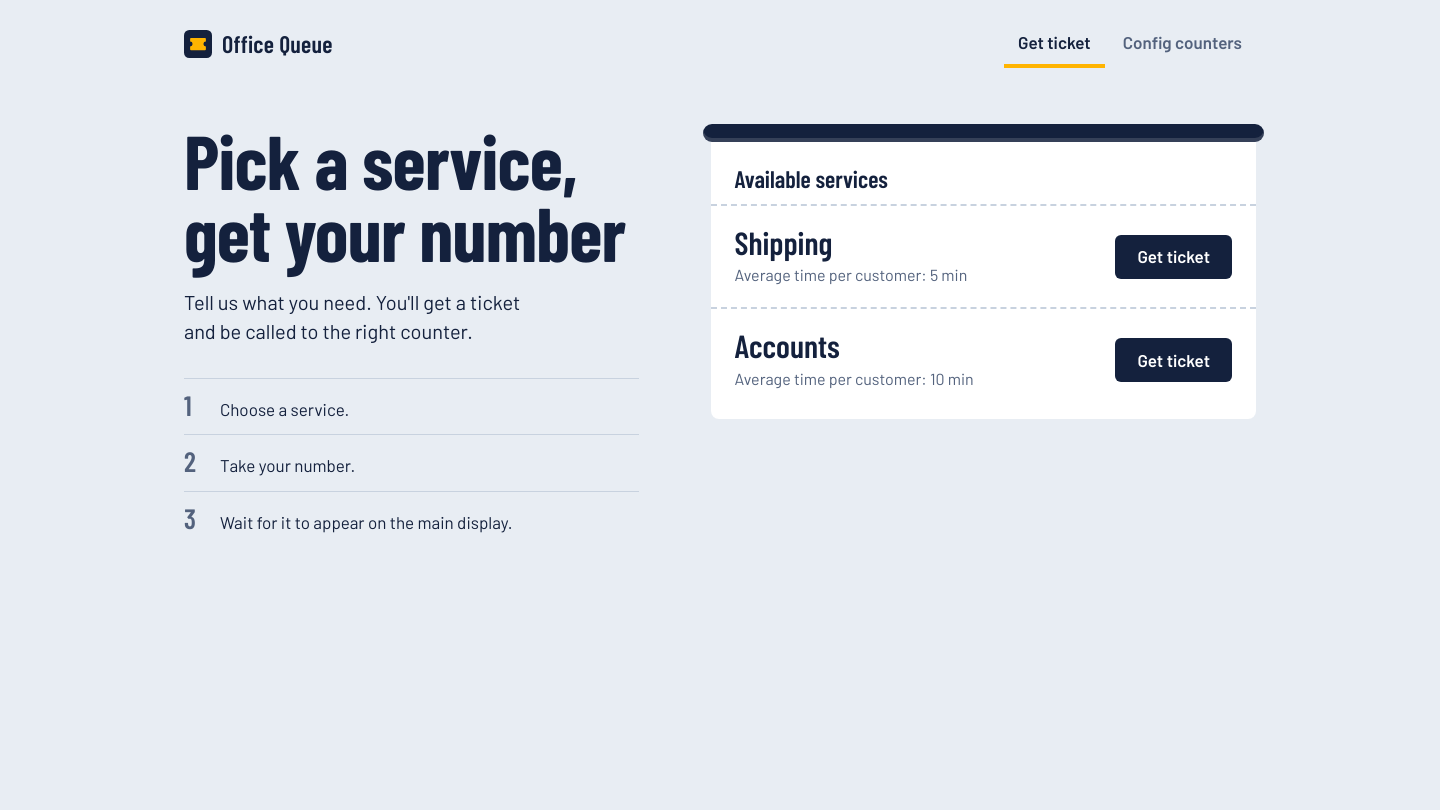
it: landing page › does not issue a ticket when the customer cancels
Click the button "Get ticket" in the row of "Accounts" at (1174, 360), box [1115, 338, 1232, 382]
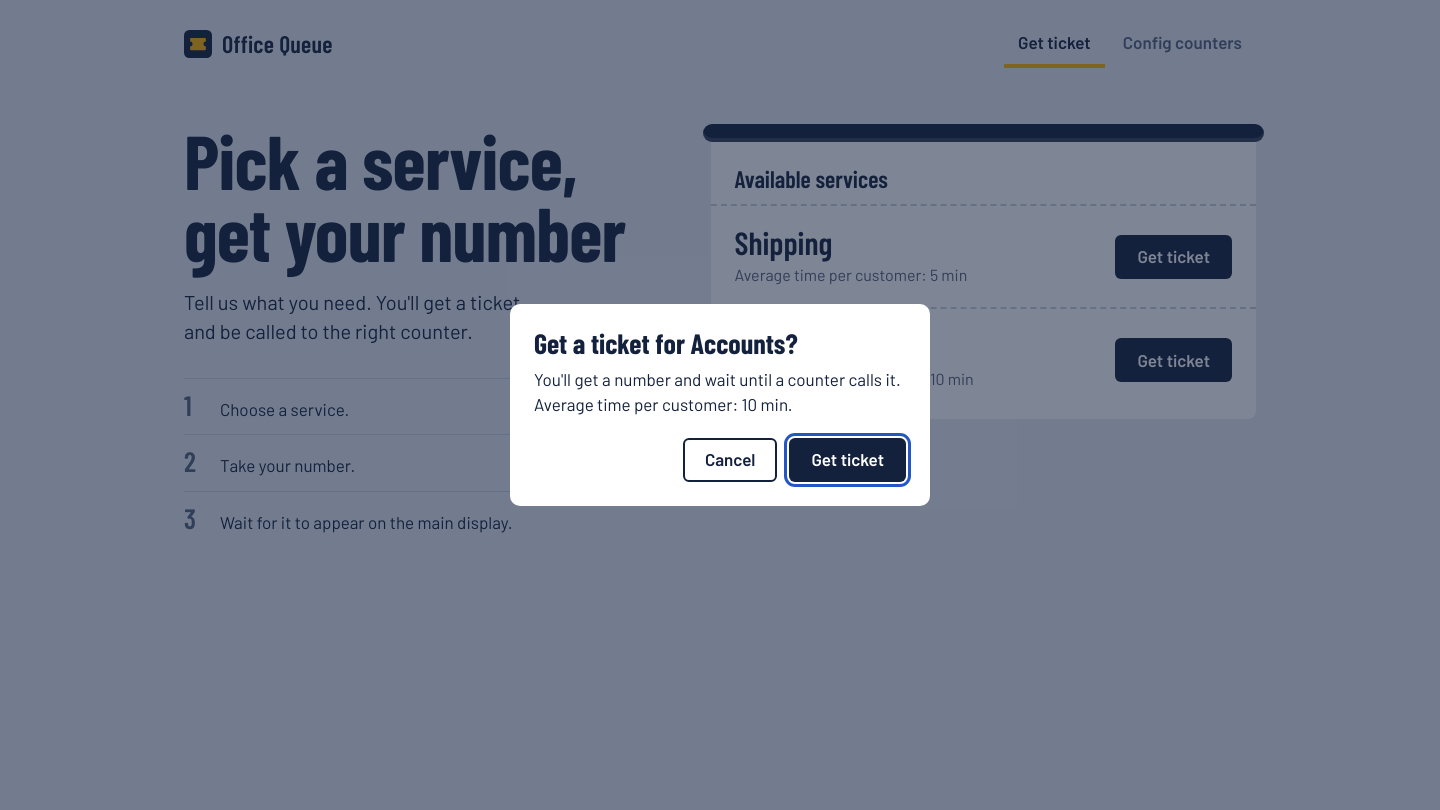
Click the button "Cancel" at (730, 460), box [683, 438, 777, 482]
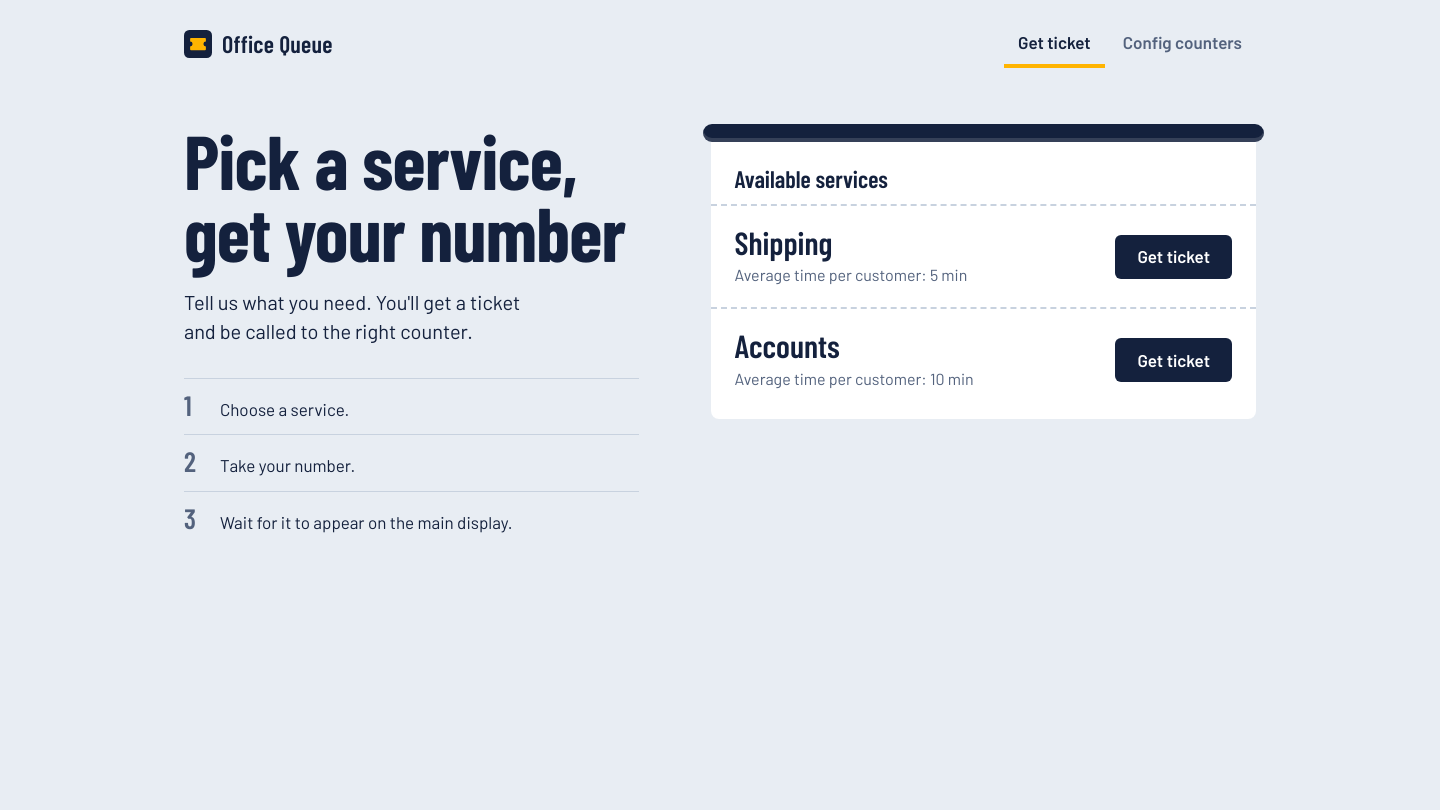
Now the dialog is gone
